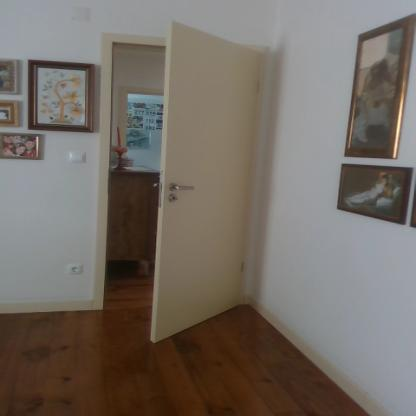semi: (91, 22, 280, 348)
